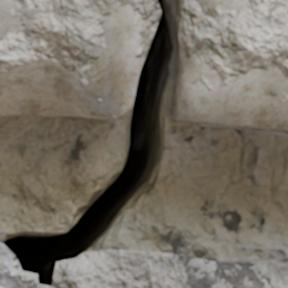broken_brick: (0, 0, 148, 119), (178, 0, 287, 127), (0, 244, 287, 287), (186, 122, 235, 129), (243, 131, 287, 136)
crack: (0, 0, 287, 286)
